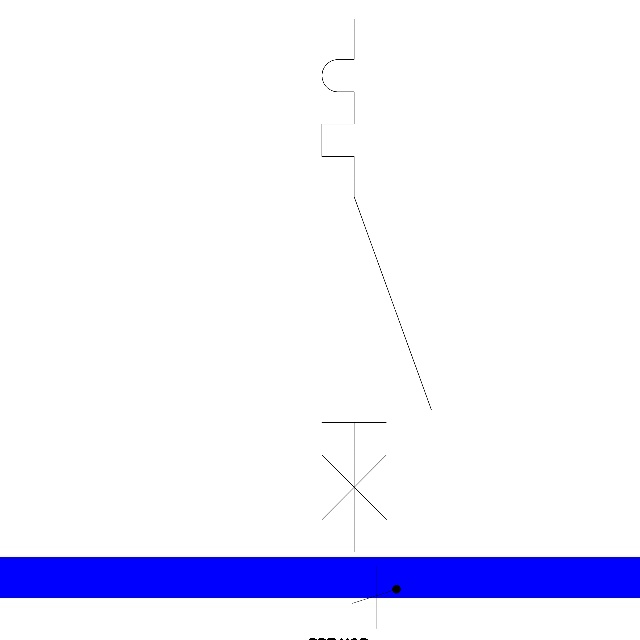interruptor_termomagnetico: (308, 5, 445, 566)
